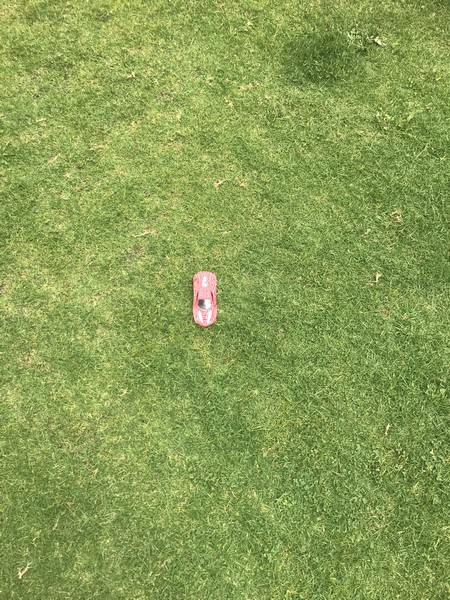RC: (190, 270, 220, 329)
